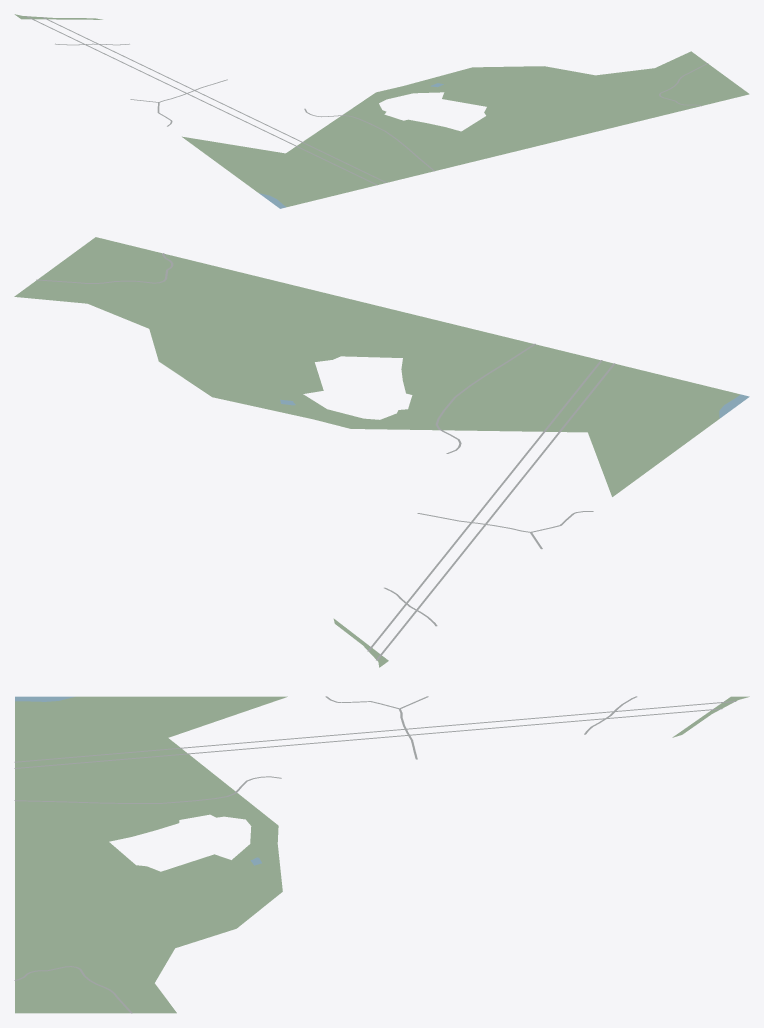
Rendered from -4_10-known-fine.glb.
3 renders of one model, top to bottom at view 1: azimuth 30°, elevation 25°; view 2: azimuth 150°, elevation 25°; view 3: azimuth 270°, elevation 25°, orthographic. The views are drawn at different scales.
Bounding box in the file's own units: 1002 × 0.1 × 983.
